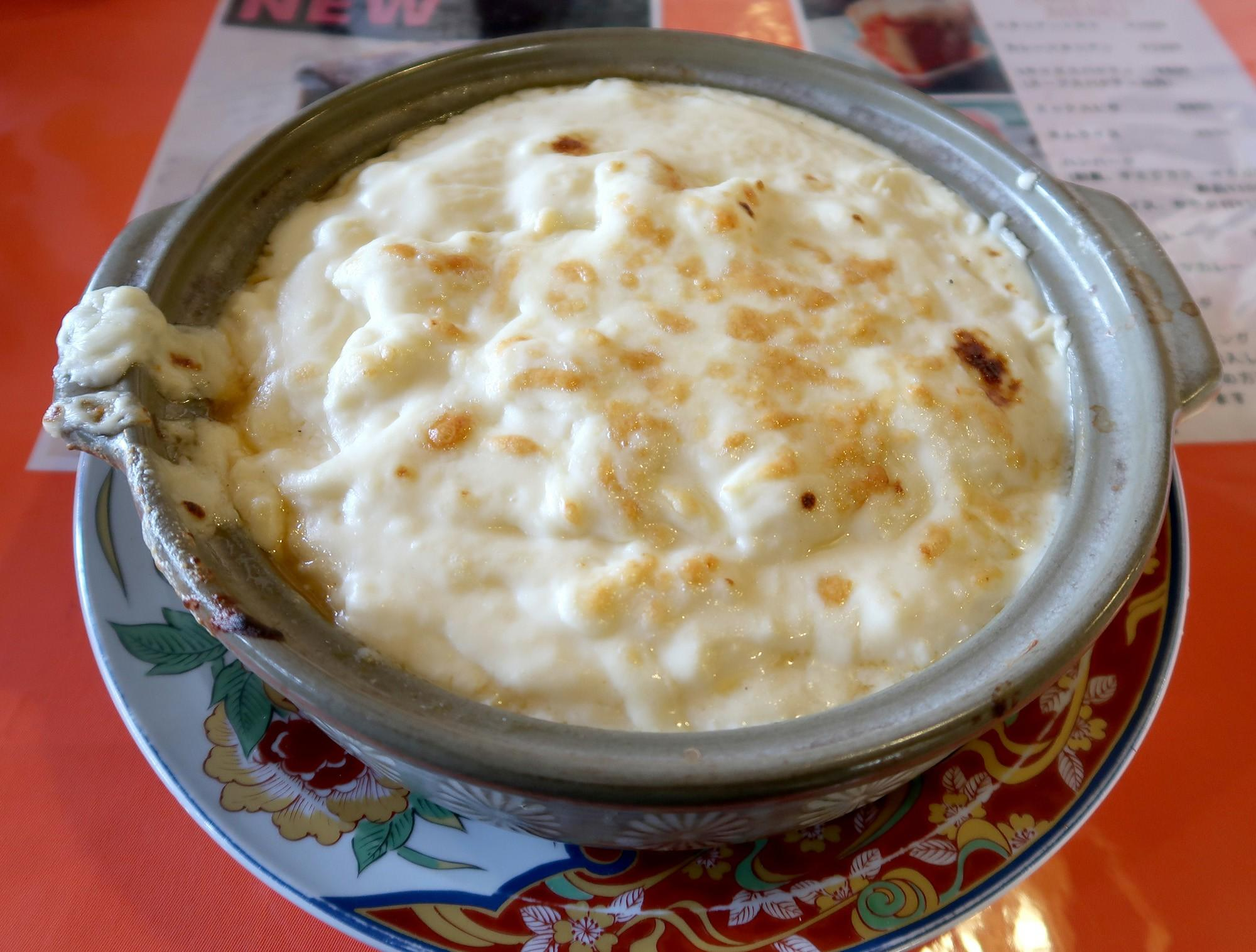Kheer: (63, 74, 1085, 739)
